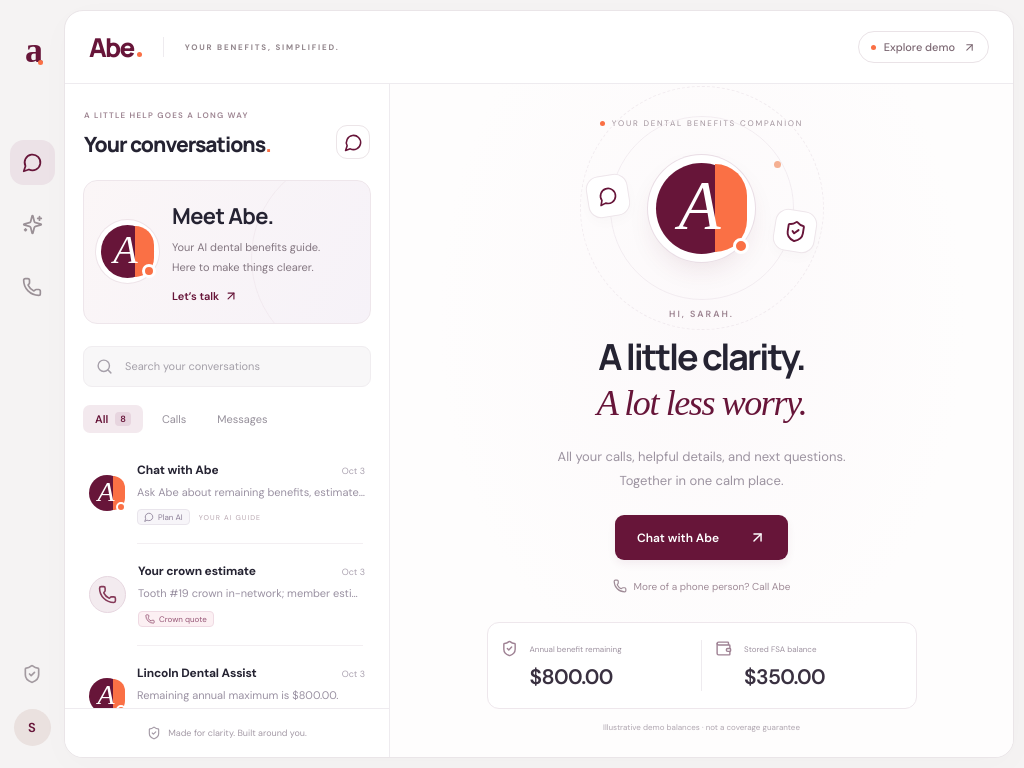
Abe companion › filters and searches the conversation inbox
Expected: the heading "Your crown estimate" is shown, x1=138 y1=563 x2=256 y2=579
Click the button "Calls". click: (174,419)
box: x1=150 y1=405 x2=198 y2=433
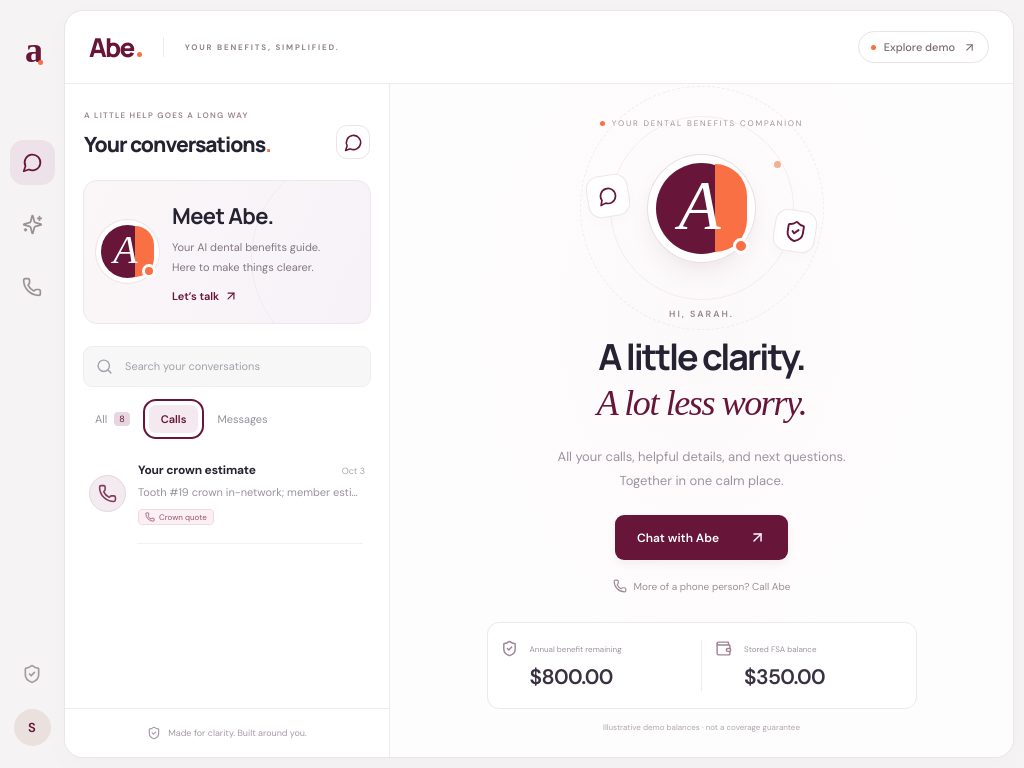
Type "no matching call" into the field with placeholder "Search your conversations". click: (240,366)
box: x1=123 y1=358 x2=358 y2=374
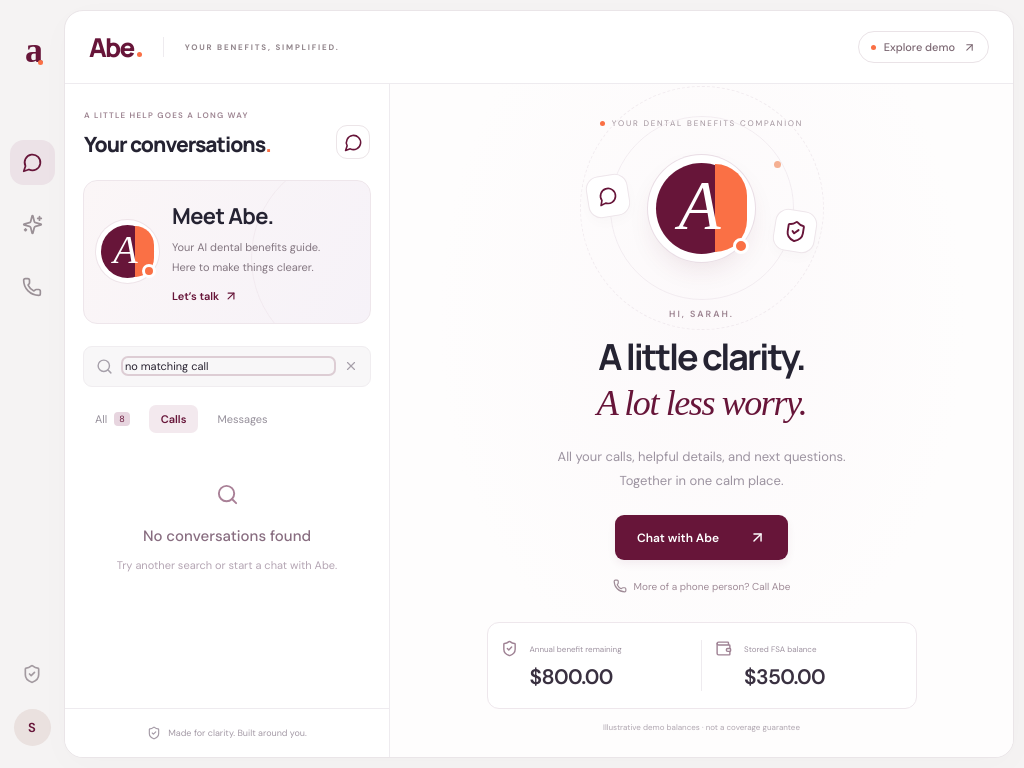
Result: the heading "No conversations found" is shown at x1=143 y1=526 x2=311 y2=546
